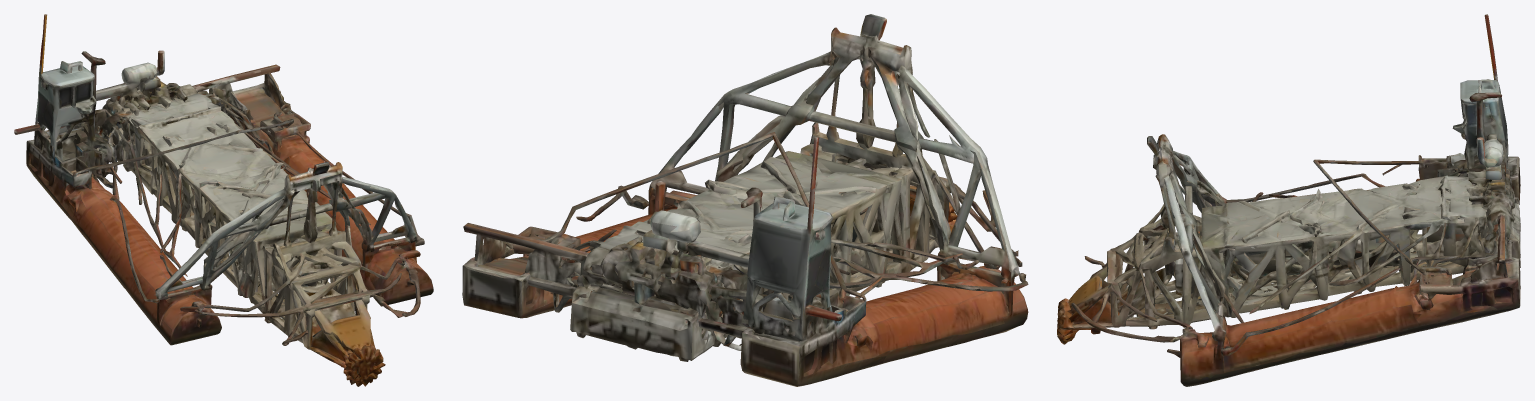
The model's file is embedded-gravel-v10.glb.
3 views of the same model, side by side, from view 1: azimuth 30°, elevation 25°; view 2: azimuth 150°, elevation 25°; view 3: azimuth 270°, elevation 25° (orthographic). The views are drawn at different scales.
Visible parts, largest first — view 1: geometry_0; view 2: geometry_0; view 3: geometry_0.
Part boxes in pixels (box(x1,y1,x2,y2)): geometry_0: box(14, 14, 433, 386); geometry_0: box(462, 14, 1028, 386); geometry_0: box(1057, 14, 1520, 386).
Bounding box in the file's own units: 24.95 × 21.77 × 34.04.
1 material, 1 textured.
